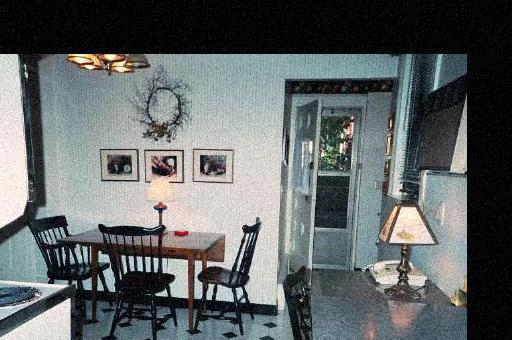Electrodomestico: (0, 56, 78, 340)
